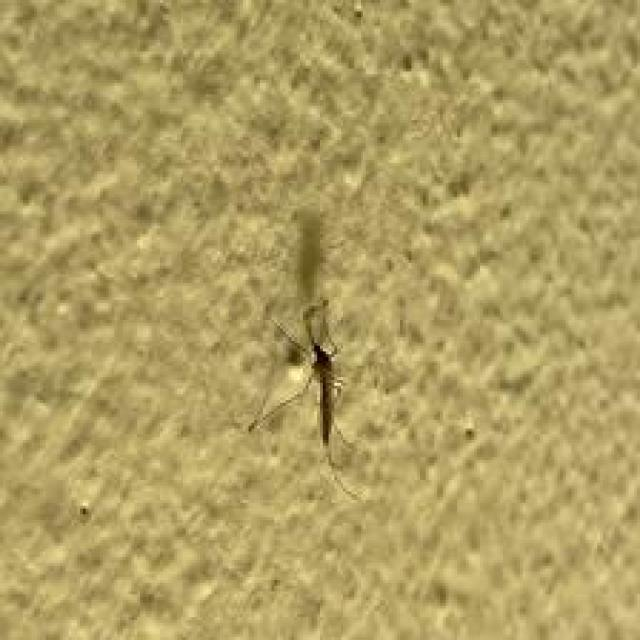Culex: (245, 206, 368, 503)
